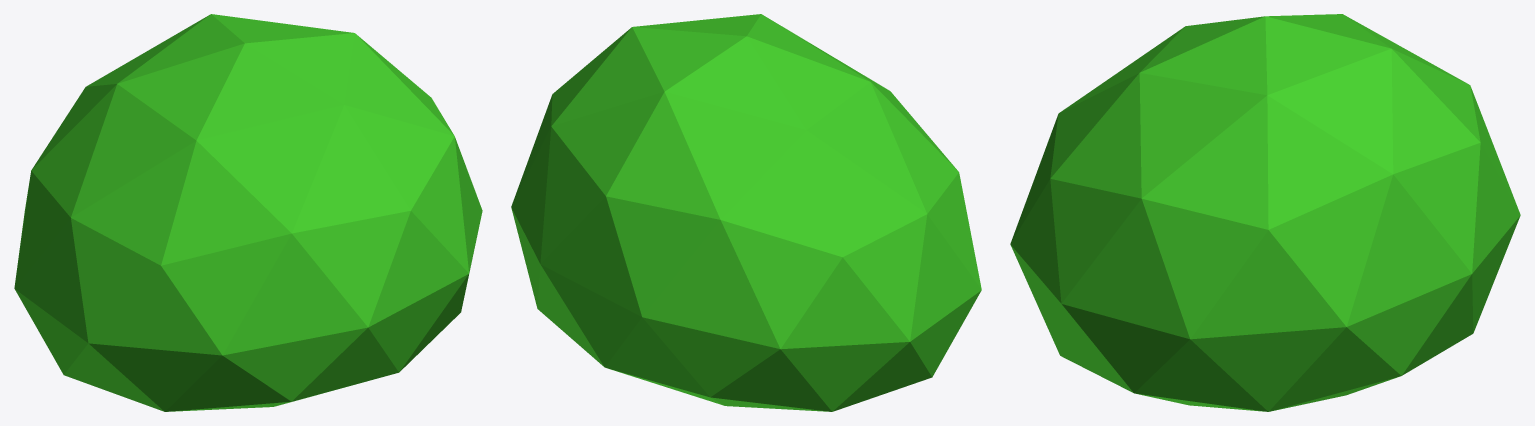
The model's file is Bush.fbx.
3 views of the same model, side by side, from view 1: azimuth 30°, elevation 25°; view 2: azimuth 150°, elevation 25°; view 3: azimuth 270°, elevation 25° (orthographic). The views are drawn at different scales.
Visible parts, largest first — view 1: Icosphere; view 2: Icosphere; view 3: Icosphere.
Part boxes in pixels (bbox=[...]): Icosphere: bbox=[14, 14, 482, 411]; Icosphere: bbox=[511, 14, 981, 411]; Icosphere: bbox=[1010, 14, 1520, 411].
Size of the model in its own units: 288 by 222 by 289.
